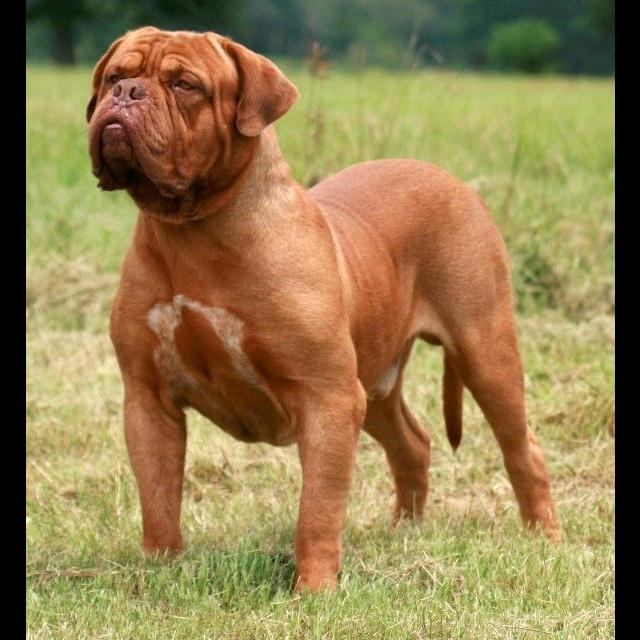dogue_de_bordeaux: (85, 26, 565, 597)
